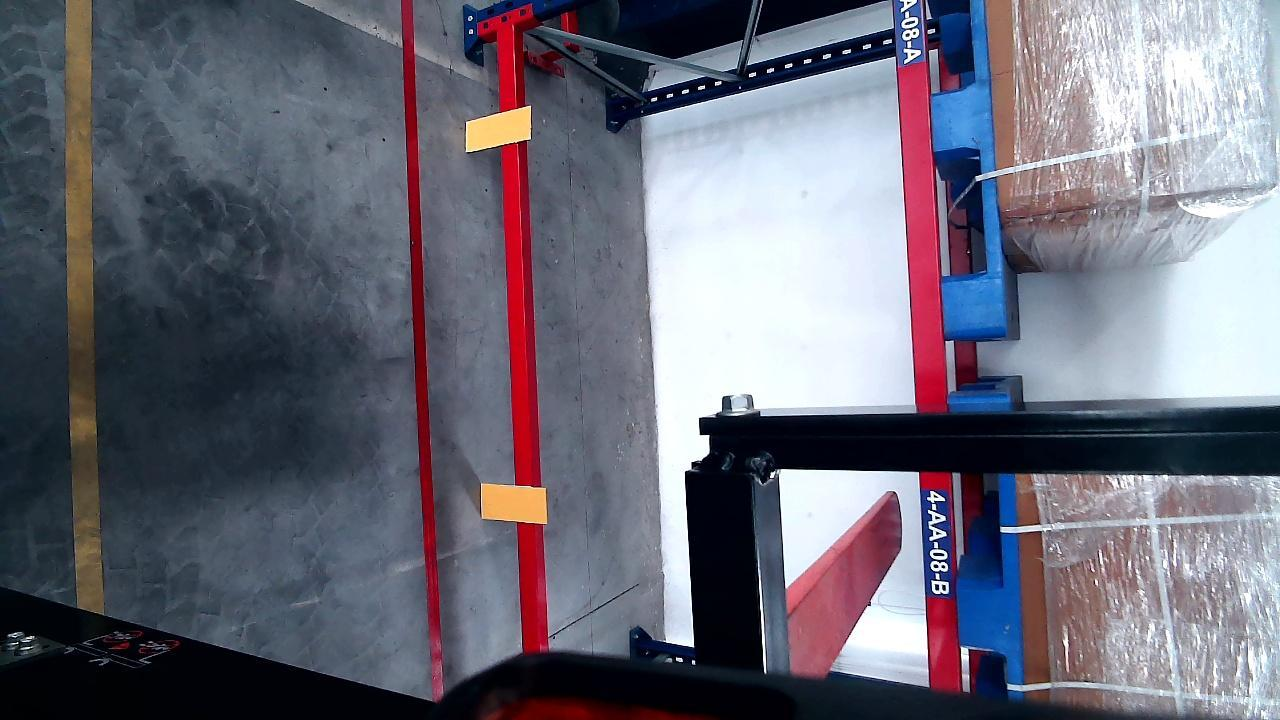red_line: (396, 1, 452, 700)
